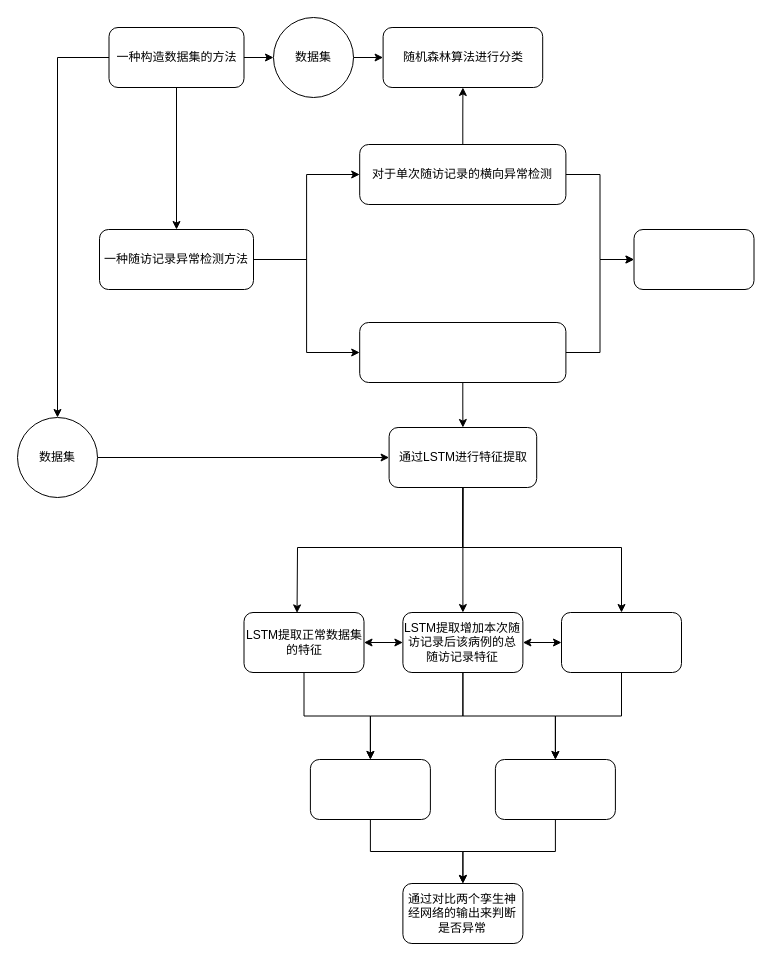
Image size: 772x961. Some labels were removed from this diagram. The box of each missing label's shape, as (x1, y1, x2, y2) in pixels:
LSTM提取异常数据集的特征: (560, 612, 682, 672)
OR: (633, 228, 754, 290)
对于单次随访记录的时序特征异常检测: (359, 322, 566, 382)
评估病例随访记录特征和异常特征相似度的孪生神经网络: (494, 758, 615, 820)
评估病例随访记录特征和正常特征相似度的孪生神经网络: (309, 758, 430, 820)
